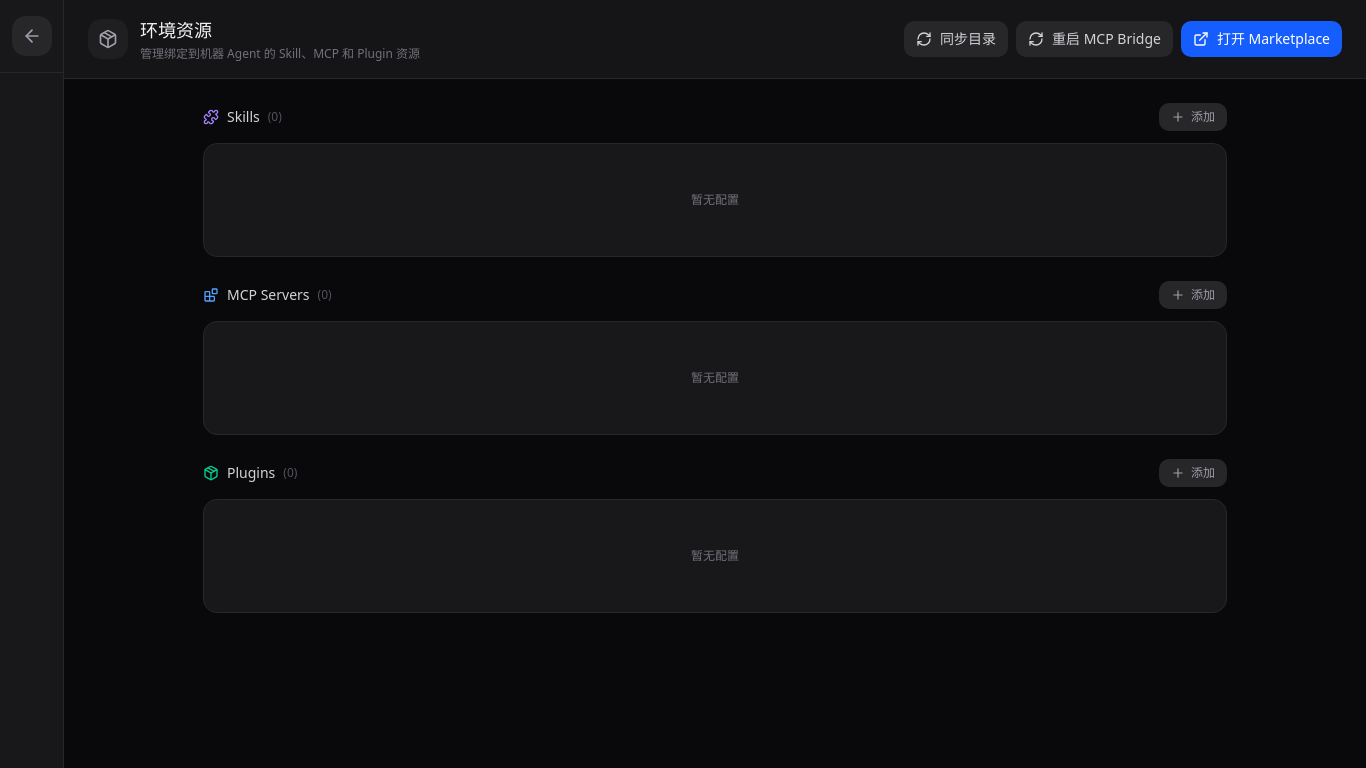
plugin add remains available and agent-aware without mutateResources capability
Click the button with aria-label "Add plugin record" at (1193, 473), box x1=1159 y1=459 x2=1227 y2=487
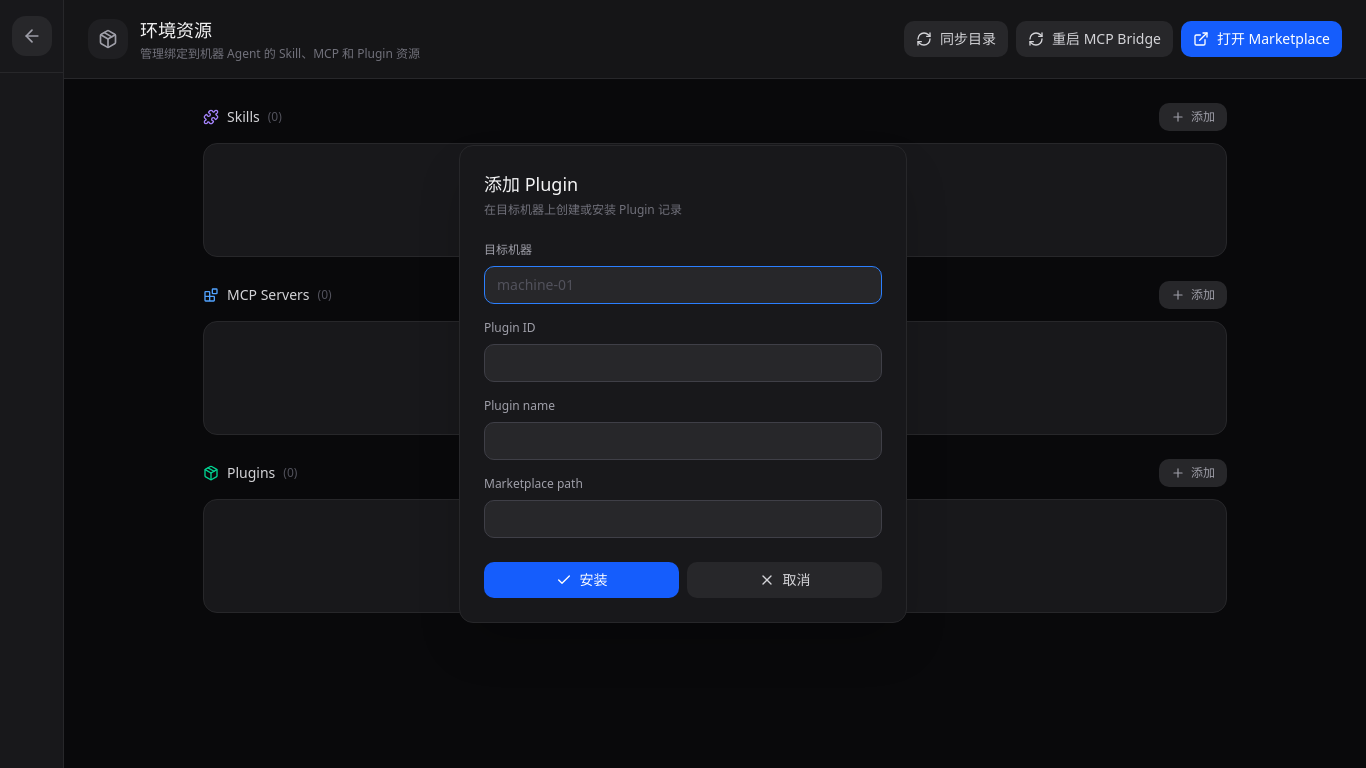
Check: the field labelled "Plugin ID" is shown, box x1=484 y1=344 x2=882 y2=382
Type "machine-1" into the field named "Machine ID" at (683, 285), box x1=484 y1=266 x2=882 y2=304
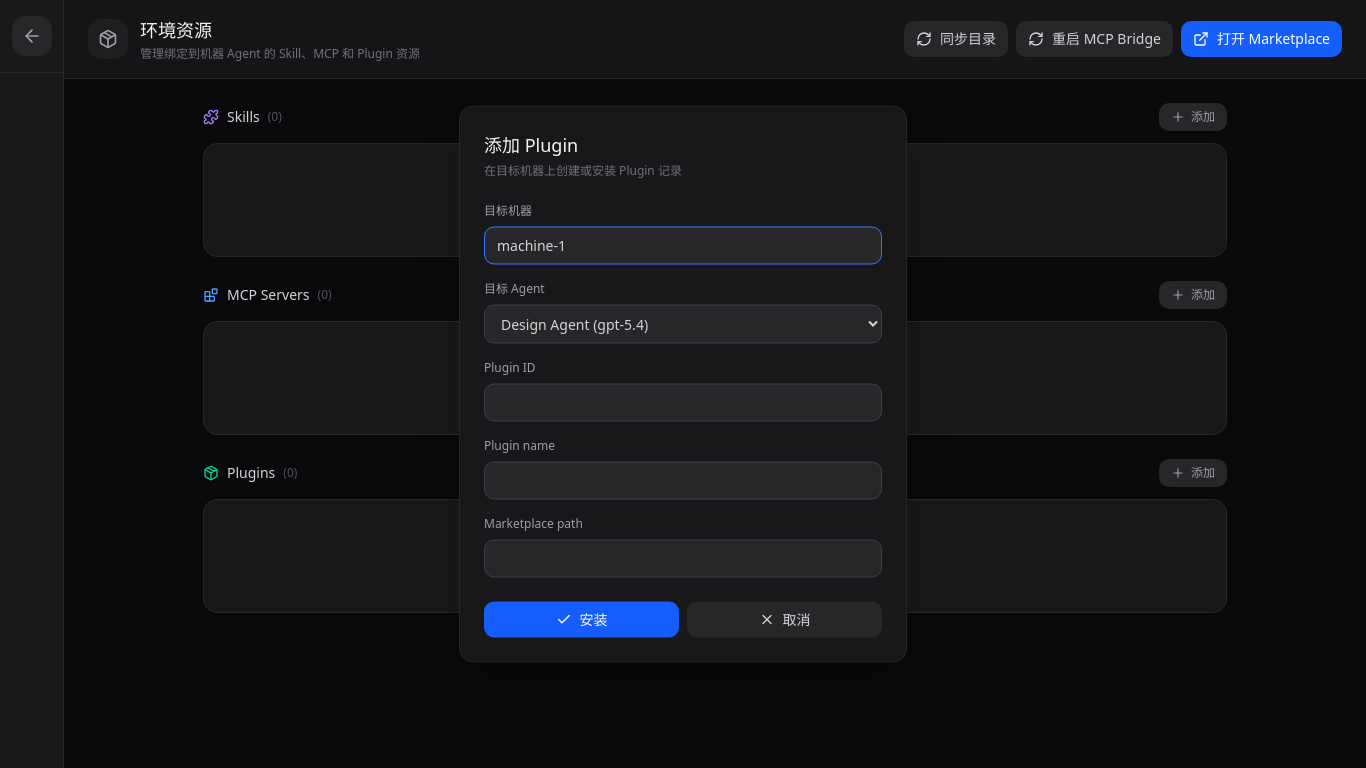
Check: the button with aria-label "Install plugin" is enabled, box x1=484 y1=602 x2=679 y2=638
Check: the dropdown labelled "目标 Agent" is shown, box x1=484 y1=304 x2=882 y2=344
